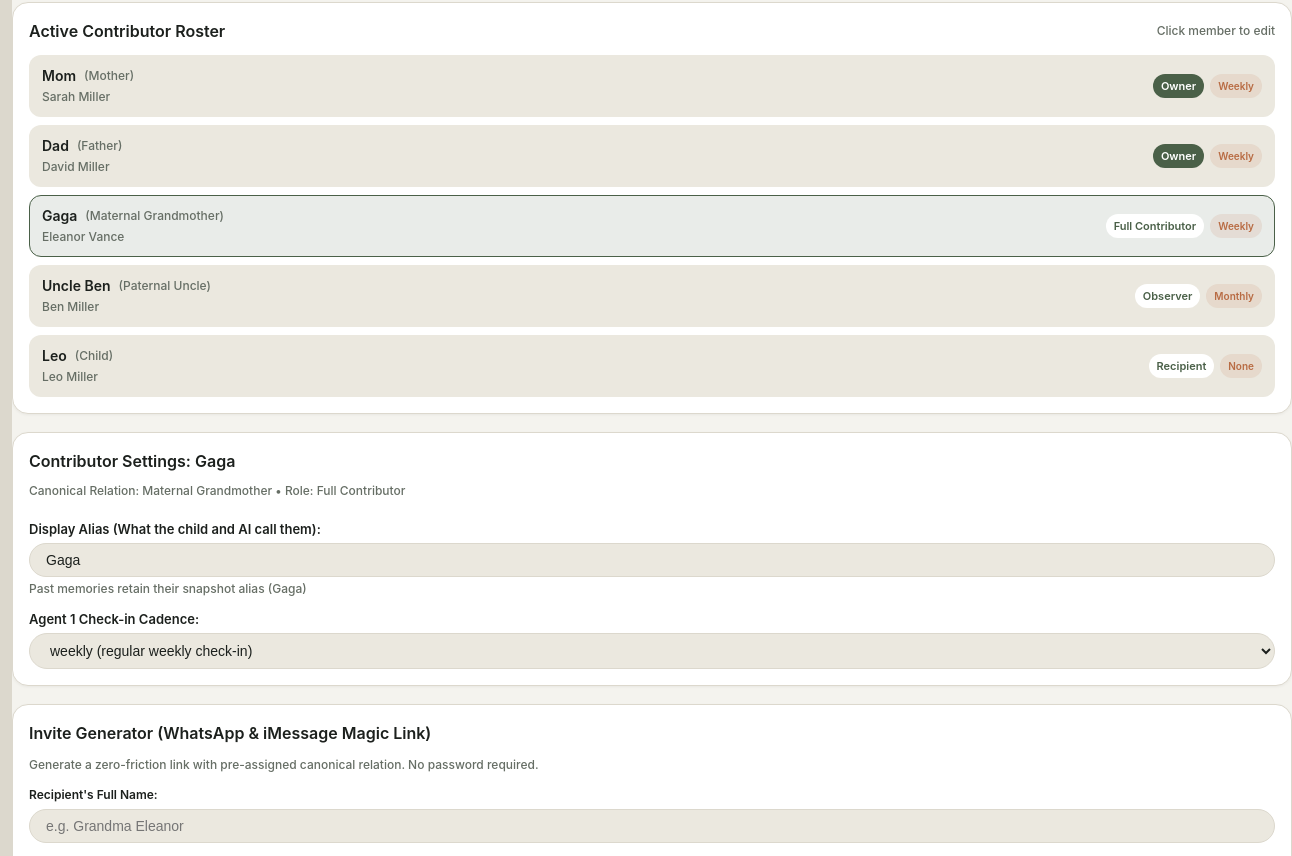
Test: CircleManagement › generates magic link for invitation
In the field with placeholder "e.g. Grandma Eleanor": (652, 826) [29,809,1275,843], type "Uncle Joe"
(page scrolled)
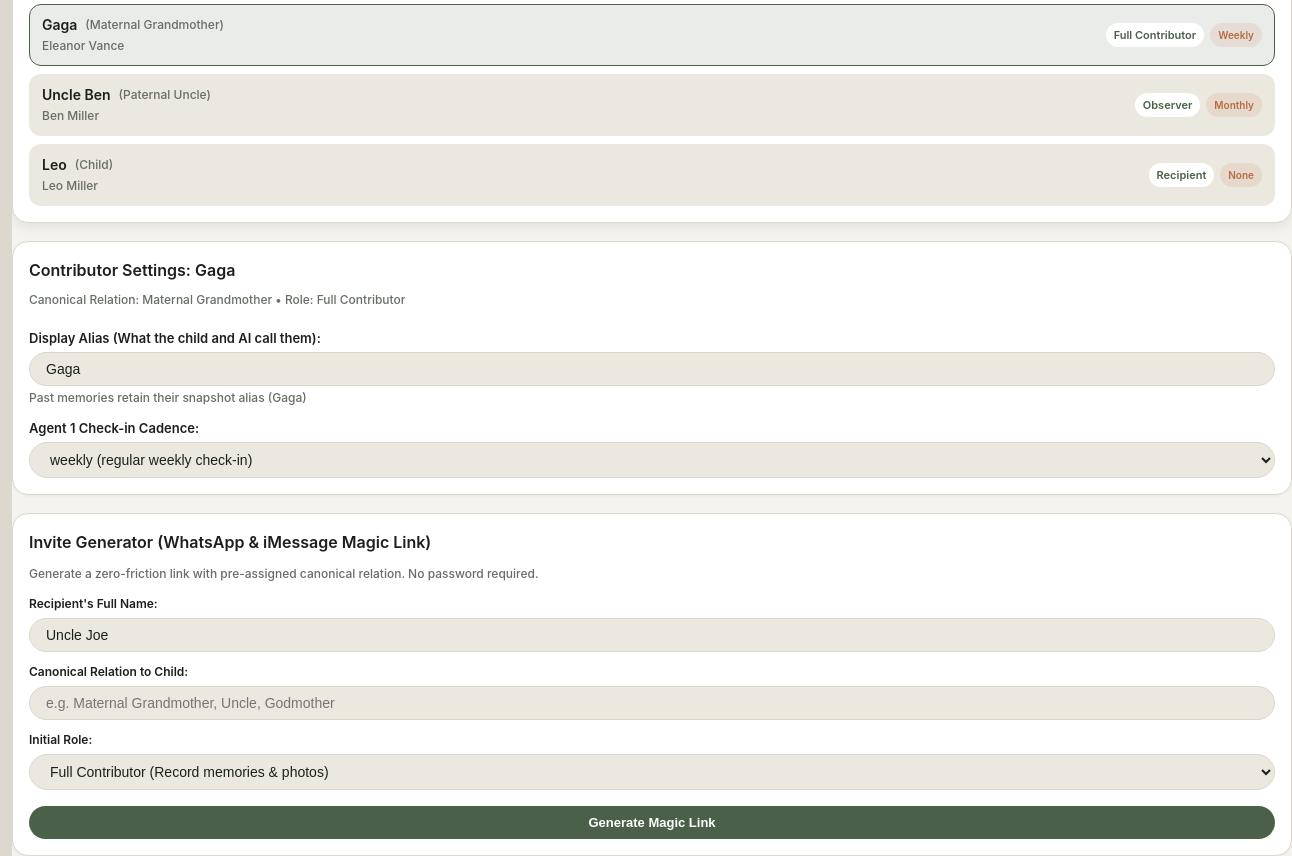
In the field with placeholder "e.g. Maternal Grandmother, Uncle, Godmother": (652, 703) [29,686,1275,720], type "Paternal Uncle"
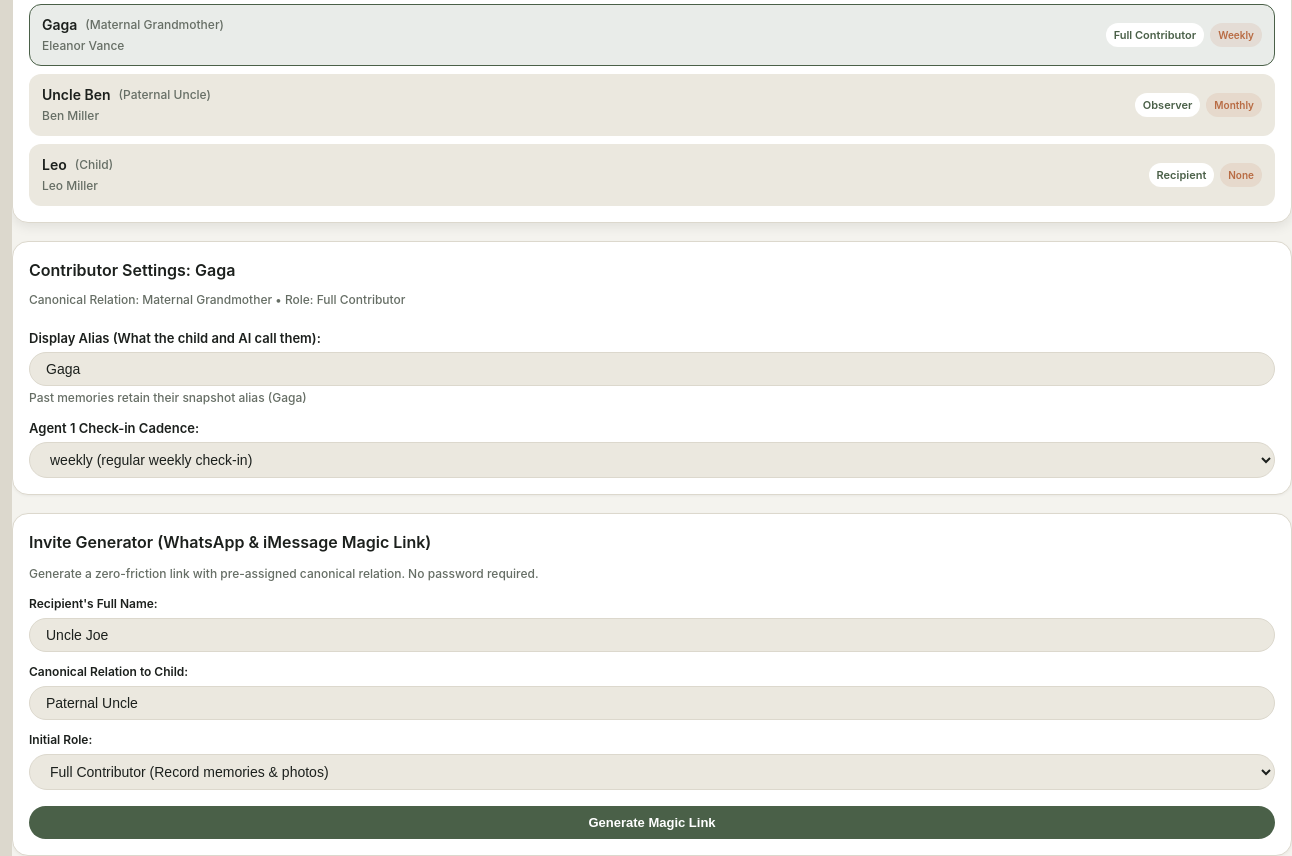
Click the button "Generate Magic Link": (652, 822) [29,806,1275,839]
(page scrolled)
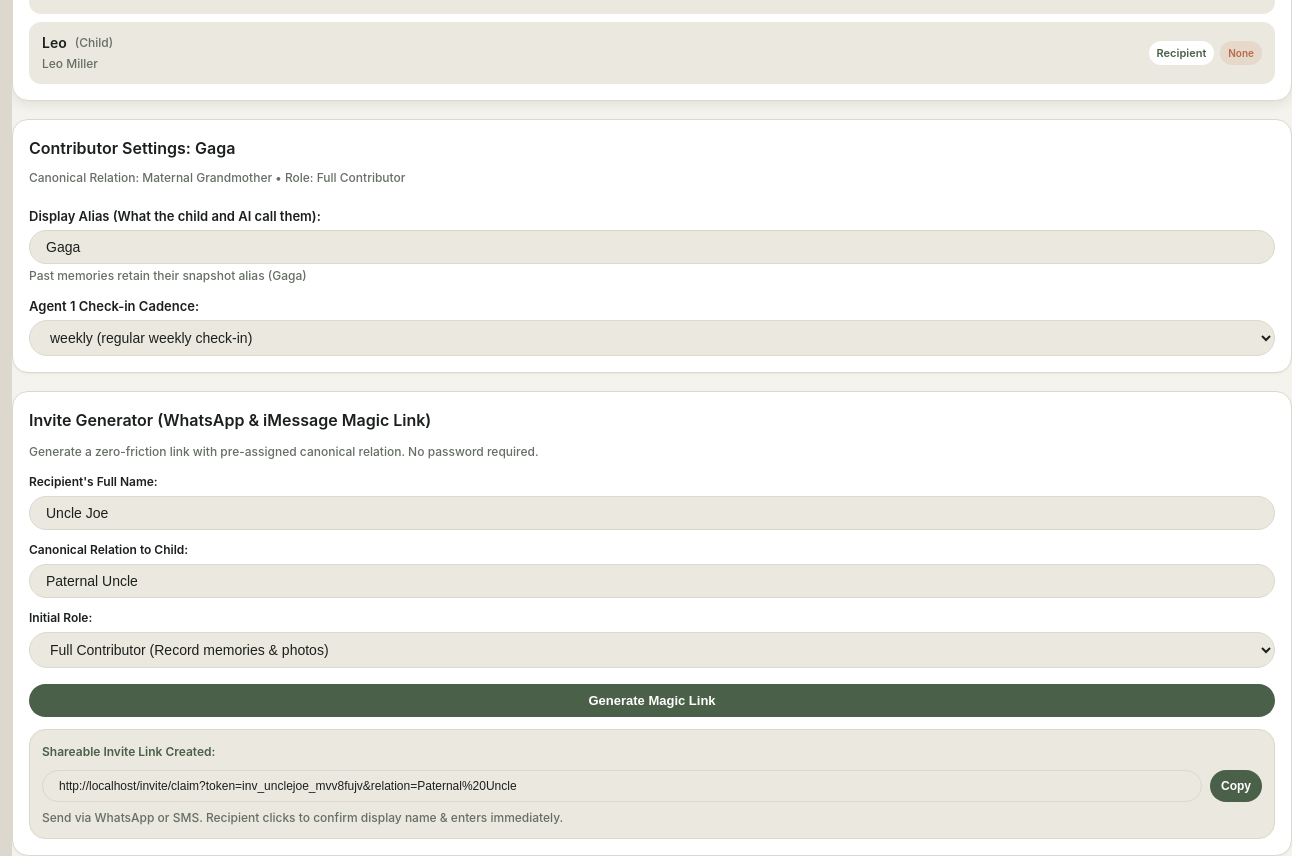
Check: the text "Shareable Invite Link Created:" is shown, box [42,744,215,759]
